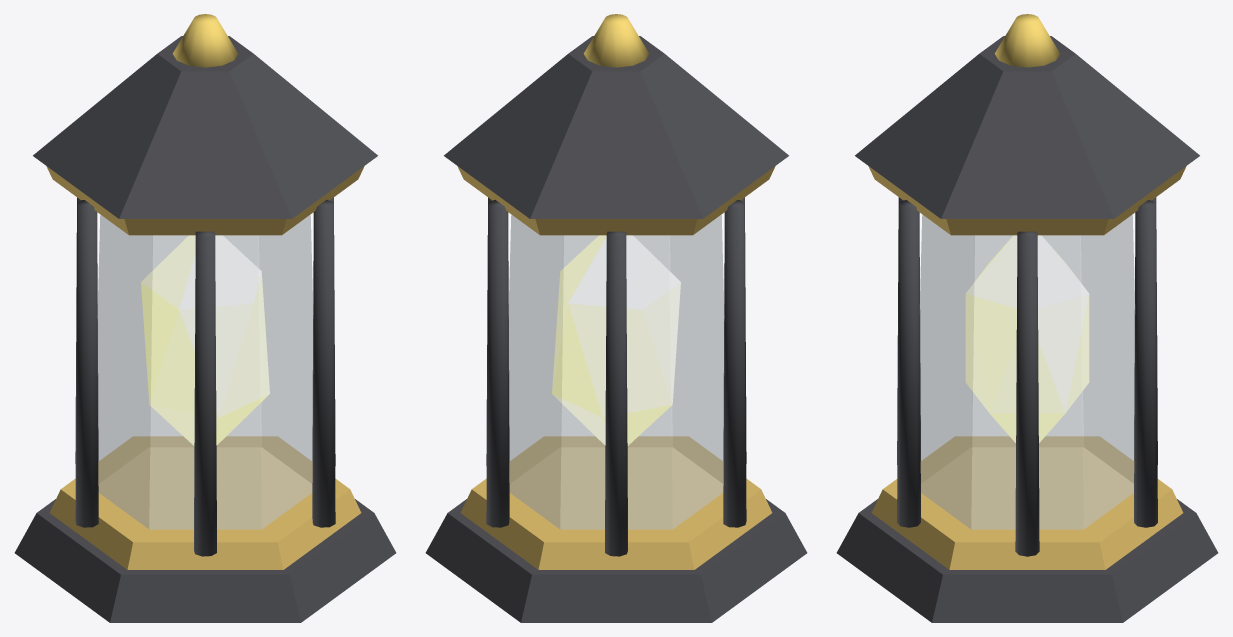
Rendered from settings_lantern_prism.glb.
3 views of the same model, side by side, from view 1: azimuth 30°, elevation 25°; view 2: azimuth 150°, elevation 25°; view 3: azimuth 270°, elevation 25° (orthographic).
Parts seen in each view (by area): view 1: CrystalGlassShell, PagodaRoof, BrassPlinth, FootBase, CrystalCore, Pillar_4, Pillar_5, Pillar_3, UpperCollar, RoofFinial; view 2: CrystalGlassShell, PagodaRoof, BrassPlinth, FootBase, CrystalCore, Pillar_2, Pillar_1, Pillar_3, UpperCollar, RoofFinial; view 3: CrystalGlassShell, PagodaRoof, BrassPlinth, FootBase, CrystalCore, Pillar_0, Pillar_1, Pillar_5, UpperCollar, RoofFinial.
Part boxes in pixels (x1,y1,x2,y2): CrystalGlassShell: [97, 214, 313, 529]; PagodaRoof: [33, 36, 377, 218]; BrassPlinth: [49, 436, 361, 569]; FootBase: [14, 499, 396, 622]; CrystalCore: [141, 235, 269, 445]; Pillar_4: [194, 231, 216, 556]; Pillar_5: [312, 199, 335, 527]; Pillar_3: [75, 200, 98, 527]; UpperCollar: [46, 166, 364, 235]; RoofFinial: [172, 14, 238, 67]; CrystalGlassShell: [508, 214, 724, 529]; PagodaRoof: [444, 36, 788, 218]; BrassPlinth: [460, 436, 772, 569]; FootBase: [425, 499, 807, 622]; CrystalCore: [552, 235, 680, 445]; Pillar_2: [605, 231, 627, 556]; Pillar_1: [486, 199, 509, 527]; Pillar_3: [723, 200, 746, 527]; UpperCollar: [457, 166, 775, 235]; RoofFinial: [583, 14, 649, 67]; CrystalGlassShell: [919, 214, 1135, 529]; PagodaRoof: [855, 36, 1199, 218]; BrassPlinth: [871, 436, 1183, 569]; FootBase: [836, 499, 1218, 622]; CrystalCore: [965, 235, 1089, 442]; Pillar_0: [1015, 231, 1039, 556]; Pillar_1: [1134, 200, 1157, 527]; Pillar_5: [897, 200, 920, 527]; UpperCollar: [868, 166, 1186, 235]; RoofFinial: [994, 14, 1060, 67].
Bounding box in the file's own units: 0.1645 × 0.293 × 0.19.
